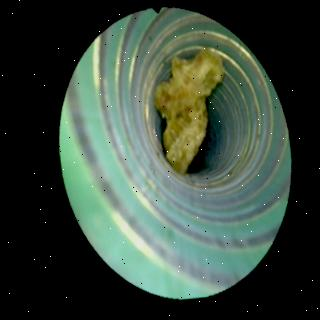stone: (153, 49, 222, 174)
